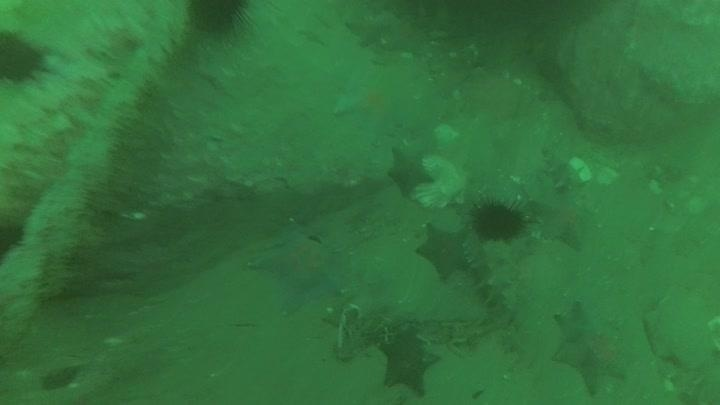echinus: (1, 27, 51, 87), (469, 196, 529, 244), (183, 1, 257, 37), (1, 216, 28, 261)
holothurian: (464, 237, 521, 317), (539, 142, 583, 194)
scallop: (416, 155, 477, 208)
starfish: (248, 223, 348, 314), (548, 298, 634, 396), (332, 71, 420, 141), (529, 183, 597, 252), (376, 327, 442, 398), (413, 221, 471, 282), (384, 143, 436, 198)
